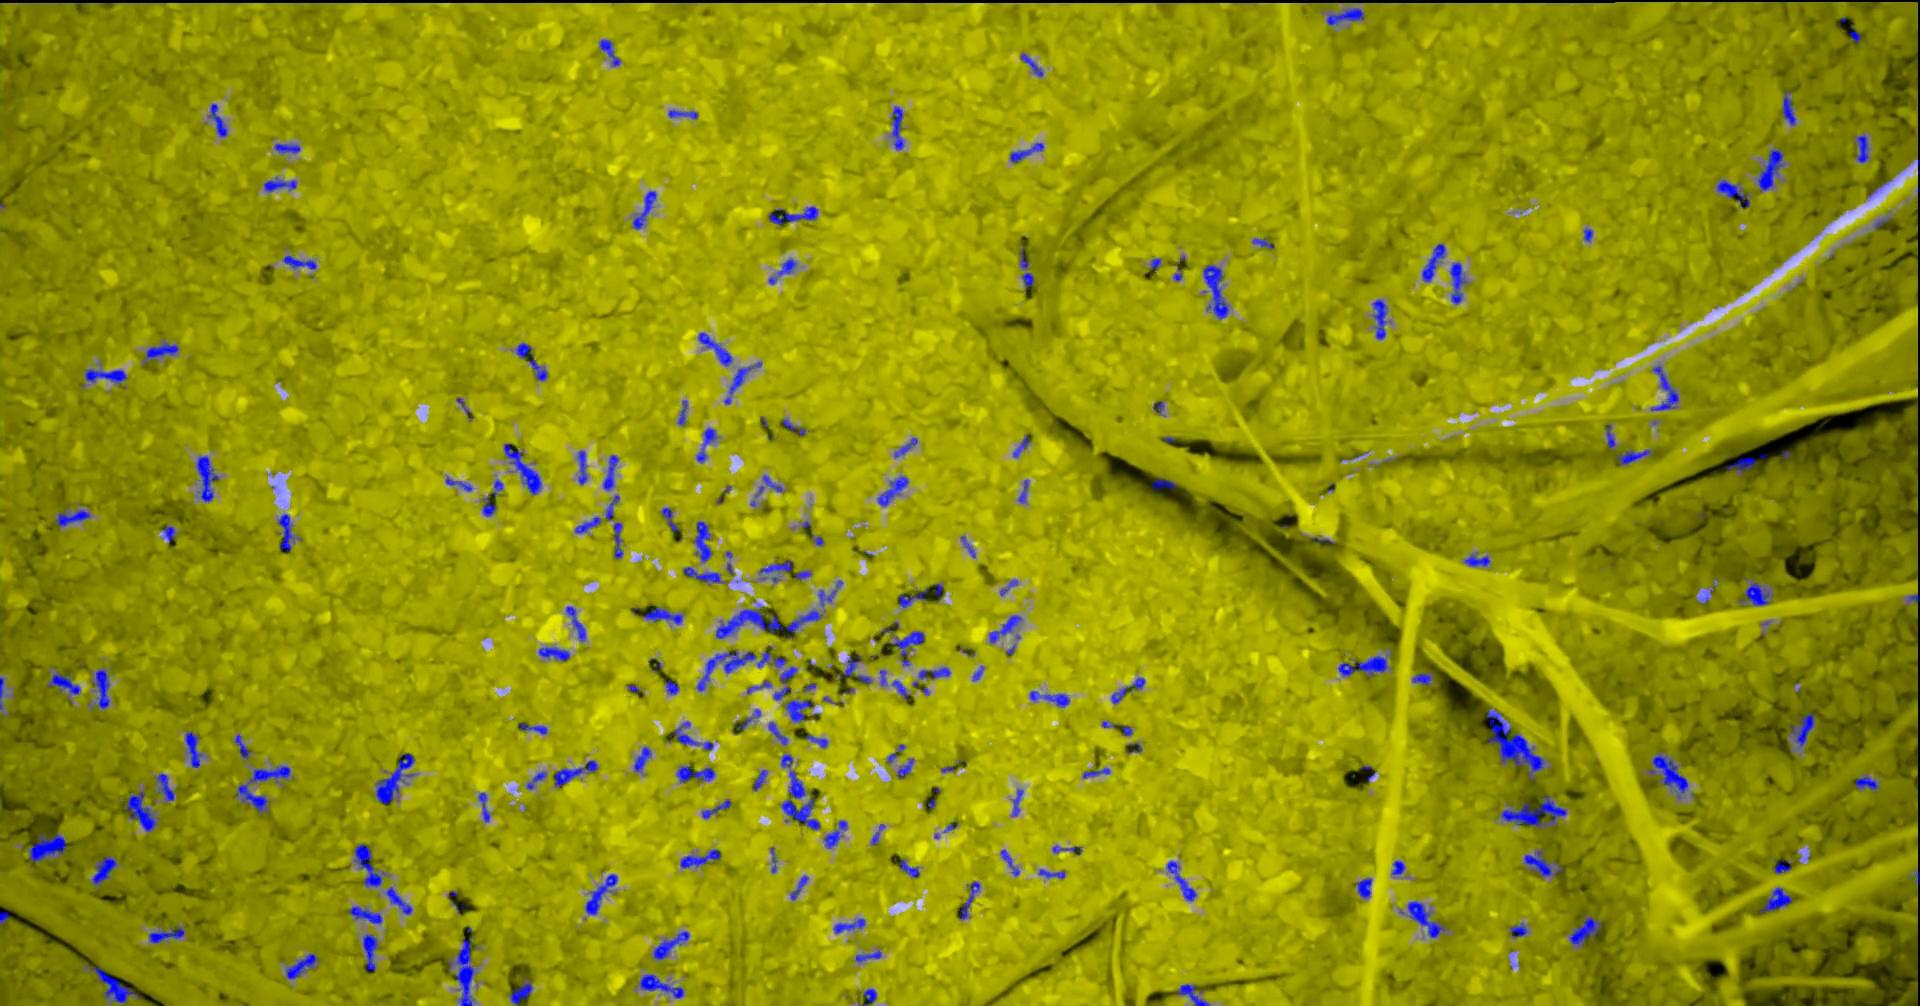ant: (715, 607, 822, 638), (696, 650, 756, 691), (1500, 795, 1566, 827), (375, 753, 414, 804), (503, 443, 541, 494), (1650, 751, 1688, 796), (448, 936, 474, 1005), (91, 967, 138, 1002), (723, 361, 761, 404), (1407, 901, 1445, 937), (1203, 264, 1228, 319), (584, 873, 617, 915), (1650, 365, 1677, 410), (781, 796, 819, 829), (124, 791, 156, 831), (1166, 860, 1196, 901), (889, 631, 924, 666), (516, 342, 547, 380), (554, 760, 597, 788), (353, 843, 381, 887), (697, 332, 731, 365), (780, 753, 805, 798), (639, 973, 683, 998), (673, 721, 712, 749), (1757, 147, 1783, 191), (1523, 850, 1563, 876), (1337, 655, 1387, 677), (28, 833, 66, 861), (651, 931, 690, 959), (196, 455, 218, 500), (1716, 179, 1749, 208), (1568, 916, 1601, 945), (234, 784, 267, 812), (1421, 243, 1445, 281), (1789, 711, 1815, 747), (877, 476, 908, 506), (989, 614, 1021, 641), (284, 953, 317, 979), (632, 191, 655, 229), (1110, 677, 1144, 702), (768, 206, 817, 224), (957, 882, 980, 918), (1757, 887, 1790, 912), (773, 666, 797, 699), (277, 513, 298, 550), (1738, 582, 1771, 605), (47, 671, 80, 694), (681, 848, 720, 868), (248, 765, 290, 782), (385, 887, 411, 915), (696, 427, 716, 462), (693, 521, 711, 561), (565, 606, 585, 641), (1176, 983, 1209, 1005), (91, 855, 116, 884), (643, 606, 682, 624), (1449, 262, 1465, 304), (91, 669, 109, 708), (676, 765, 714, 782), (823, 821, 847, 848), (1010, 142, 1043, 163), (758, 559, 791, 579), (1029, 690, 1069, 706), (783, 699, 813, 721), (1326, 8, 1363, 25), (207, 103, 226, 137), (836, 654, 861, 680), (84, 368, 126, 384), (509, 977, 532, 1005), (348, 904, 381, 923), (682, 567, 723, 582), (55, 509, 89, 527), (149, 925, 183, 942), (602, 453, 618, 490), (1018, 246, 1032, 290), (898, 587, 927, 607), (145, 342, 178, 359), (818, 580, 842, 605), (598, 39, 620, 66), (1371, 298, 1385, 339), (754, 475, 782, 495), (1615, 448, 1652, 464), (185, 730, 201, 767), (362, 934, 377, 970), (701, 799, 730, 818), (890, 105, 903, 149), (999, 848, 1018, 876), (1020, 53, 1043, 76), (155, 774, 174, 800), (1724, 456, 1755, 473), (893, 437, 917, 457), (632, 746, 651, 771), (833, 918, 865, 934), (1782, 90, 1796, 124), (282, 255, 316, 269), (738, 708, 759, 729), (263, 177, 296, 191), (574, 516, 599, 533), (790, 875, 808, 901), (768, 721, 787, 744), (662, 507, 679, 531), (444, 476, 472, 492), (538, 647, 569, 661), (1012, 433, 1029, 457), (232, 734, 249, 758), (782, 418, 805, 434), (1855, 133, 1868, 163), (526, 771, 546, 789), (899, 859, 919, 876), (518, 721, 546, 734), (577, 450, 587, 484), (960, 535, 975, 558), (918, 667, 949, 678), (777, 258, 796, 276), (891, 680, 909, 699), (604, 495, 618, 520), (745, 680, 770, 694), (1854, 775, 1878, 789), (897, 758, 913, 779), (477, 793, 489, 822), (752, 768, 767, 790), (1356, 876, 1371, 898), (1150, 478, 1176, 490), (1464, 554, 1490, 567), (804, 733, 827, 747), (613, 522, 622, 558), (1082, 767, 1109, 779), (1011, 789, 1022, 815), (855, 950, 881, 962), (858, 988, 876, 1005), (483, 495, 497, 516), (667, 109, 697, 118), (1051, 845, 1082, 854), (1509, 923, 1528, 937), (1017, 479, 1029, 502), (677, 400, 687, 426), (1412, 671, 1432, 683), (1773, 859, 1790, 873), (1848, 23, 1860, 42), (1037, 869, 1064, 878), (1605, 424, 1615, 447), (163, 525, 175, 542), (274, 144, 298, 152), (756, 652, 770, 667), (1390, 860, 1404, 875), (1252, 238, 1272, 248), (664, 680, 678, 694), (490, 479, 502, 495), (1125, 742, 1142, 752), (0, 676, 4, 709), (1583, 227, 1592, 241)
